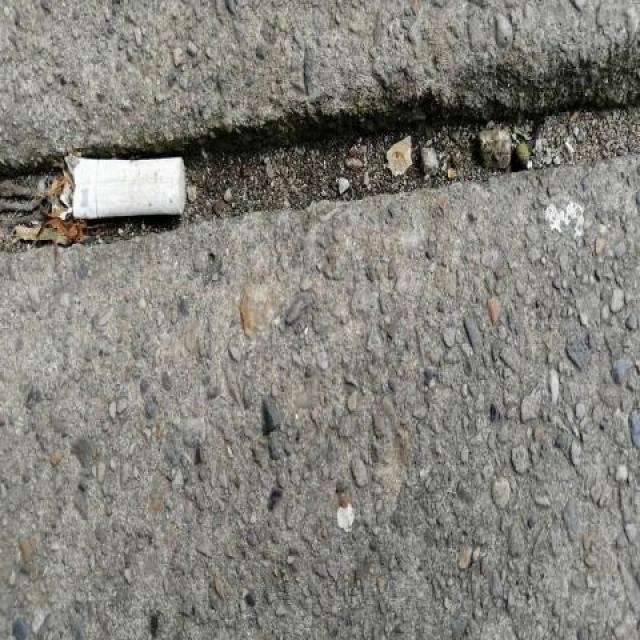non-organic waste: (58, 148, 195, 224)
